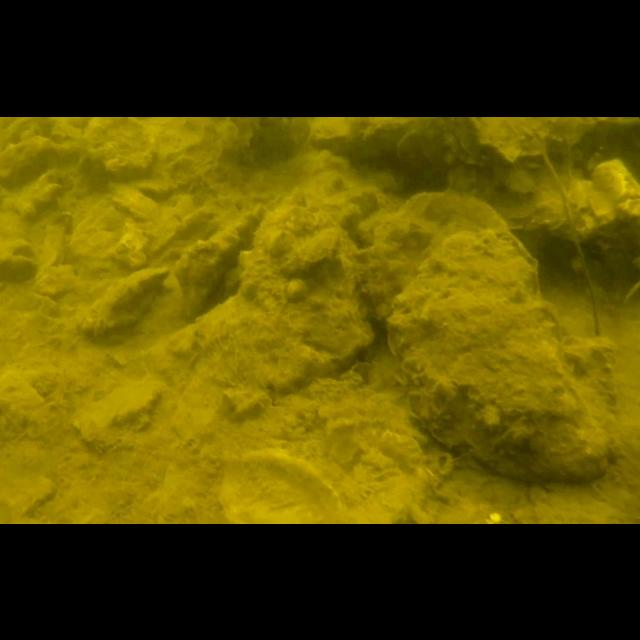Oyster-Closed: (383, 221, 607, 479), (354, 188, 508, 318), (170, 208, 262, 320), (216, 442, 340, 524), (74, 260, 168, 336), (82, 116, 156, 180), (284, 228, 340, 276)
Oyster-Open: (444, 154, 564, 232), (561, 157, 640, 243), (0, 238, 40, 278)
